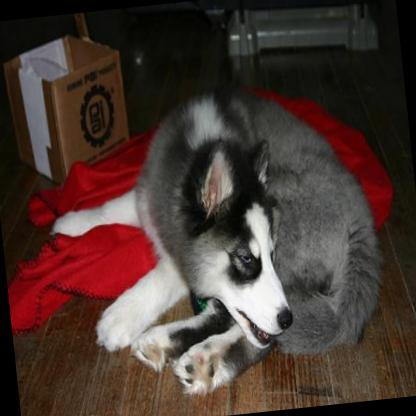Siberian_husky: (38, 61, 397, 408)
